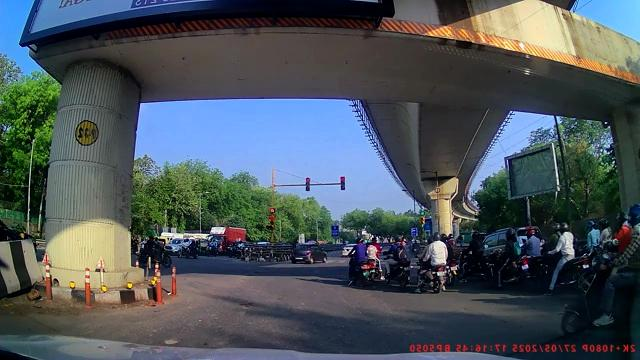motorcycle_with_helmet: (544, 221, 587, 295), (347, 235, 387, 290), (418, 232, 450, 294)
